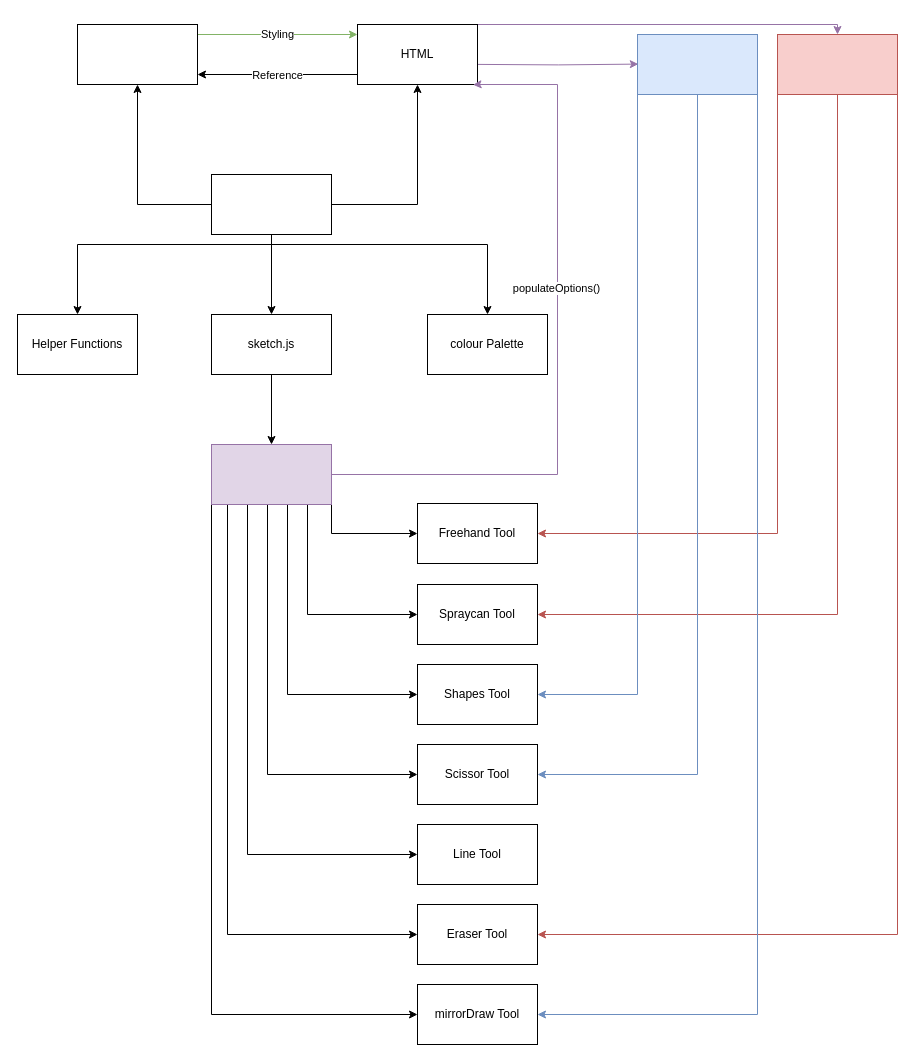
The diagram is 923 pixels wide and 1062 high, and some of its shapes have lost their labels. The shapes that lost their labels are listed below. From the top down, each one's box as (x1, y1, x2, y2) in pixels, then its label:
(76, 24, 198, 84): CSS
(636, 34, 758, 94): Button Element
(776, 34, 898, 94): Slider Element
(210, 174, 332, 234): p5App
(210, 444, 332, 504): toolBox
